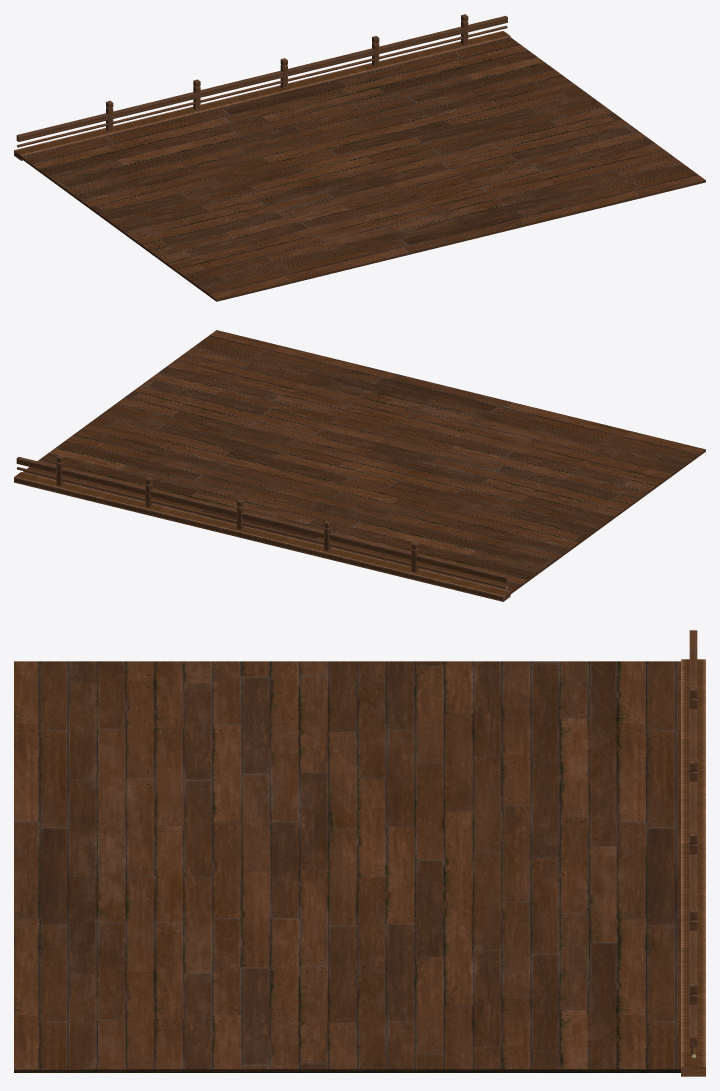
File: Floor_Out_JP_Part5.fbx
3 renders of one model, top to bottom at view 1: azimuth 30°, elevation 25°; view 2: azimuth 150°, elevation 25°; view 3: azimuth 270°, elevation 25°, orthographic. The views are drawn at different scales.
Visible parts, largest first — view 1: Floor_JP_Part5_LOD0; view 2: Floor_JP_Part5_LOD0; view 3: Floor_JP_Part5_LOD0.
Part boxes in pixels (x1=…): Floor_JP_Part5_LOD0: x1=14, y1=14, x2=705, y2=301; Floor_JP_Part5_LOD0: x1=14, y1=330, x2=705, y2=601; Floor_JP_Part5_LOD0: x1=14, y1=630, x2=705, y2=1076.
Size of what is drawn, in the model's own units: 841 by 55.34 by 603.
